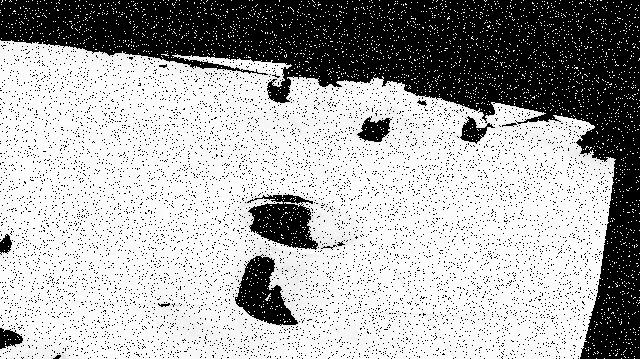pot: (231, 192, 365, 324)
